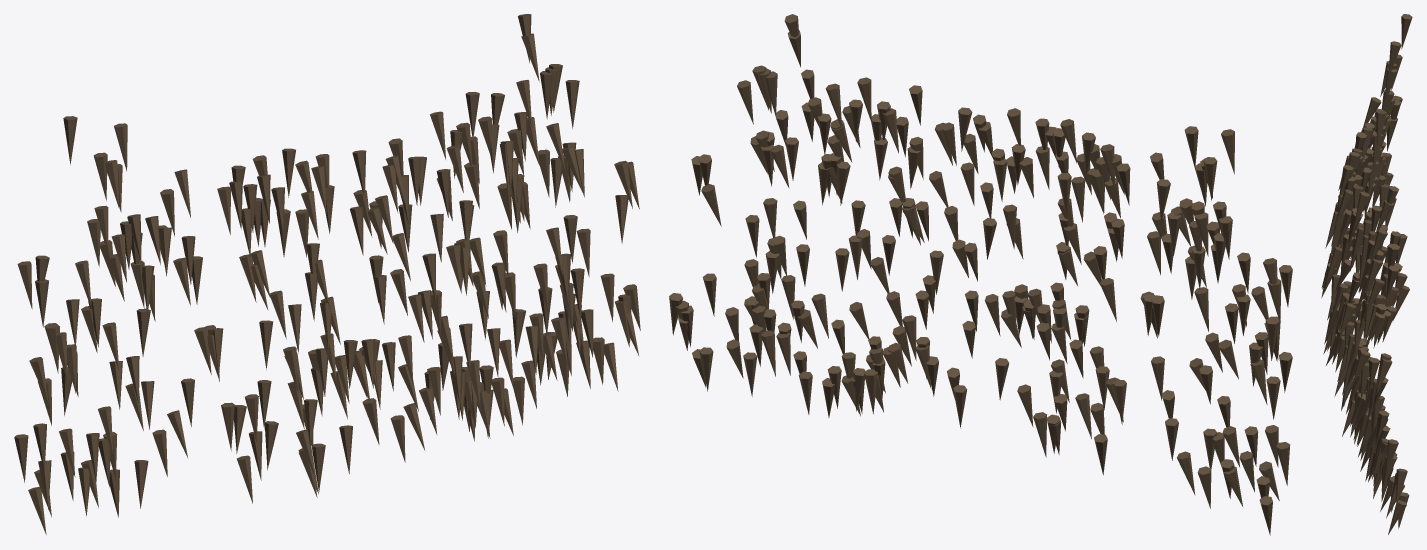
File: boxed_beard.glb
The picture shows the model from 3 angles, left to right: view 1: azimuth 30°, elevation 25°; view 2: azimuth 150°, elevation 25°; view 3: azimuth 270°, elevation 25°; orthographic projection. The views are drawn at different scales.
Visible parts, largest first — view 1: no part large enough to name; view 2: no part large enough to name; view 3: p41, p55, p34, p92, p206, p207, p56, p247, p231, p243, p117, p63 (+76 smaller).
Boxes of the visible parts, x1=… form: p41: x1=1396, y1=468, x2=1407, y2=506; p55: x1=1376, y1=110, x2=1386, y2=148; p34: x1=1385, y1=439, x2=1398, y2=475; p92: x1=1339, y1=303, x2=1356, y2=339; p206: x1=1365, y1=278, x2=1384, y2=314; p207: x1=1388, y1=41, x2=1401, y2=77; p56: x1=1352, y1=350, x2=1370, y2=385; p247: x1=1354, y1=192, x2=1370, y2=227; p231: x1=1401, y1=14, x2=1412, y2=49; p243: x1=1376, y1=358, x2=1392, y2=395; p117: x1=1335, y1=189, x2=1353, y2=225; p63: x1=1326, y1=246, x2=1342, y2=282.
Size of the model in its own units: 0.1596 by 0.1 by 0.0257.
